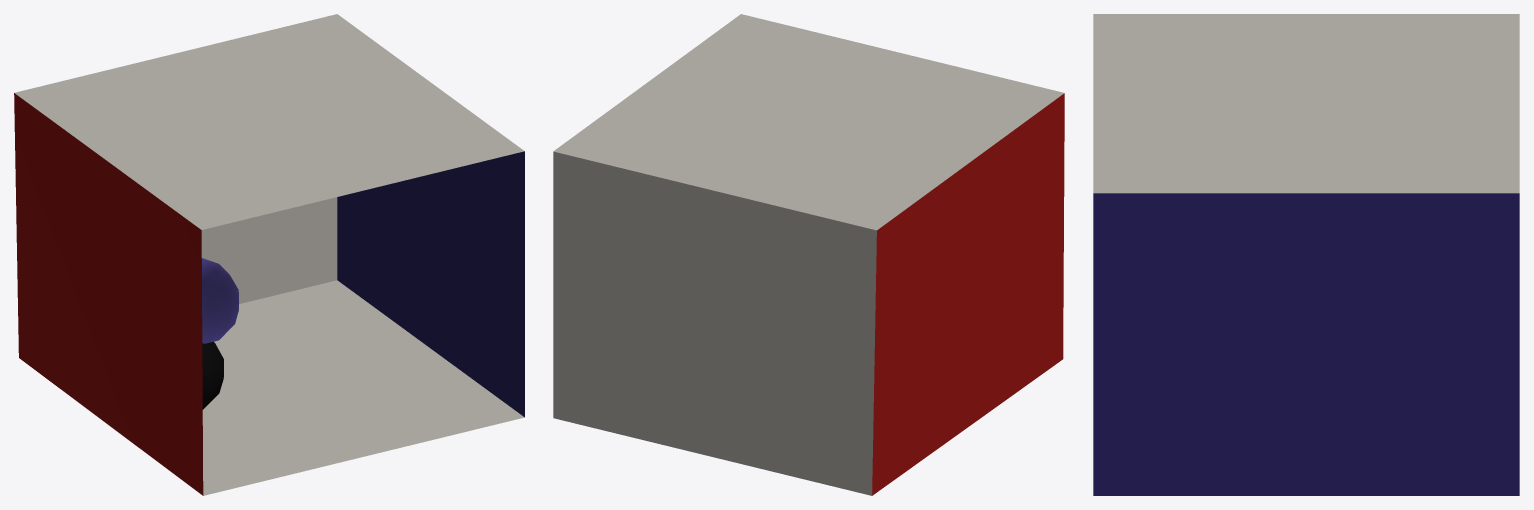
The model's file is CornellBox-Sphere-173.obj.
3 views of the same model, side by side, from view 1: azimuth 30°, elevation 25°; view 2: azimuth 150°, elevation 25°; view 3: azimuth 270°, elevation 25° (orthographic). The views are drawn at different scales.
Visible parts, largest first — view 1: ceiling, leftWall, floor, rightWall, backWall, leftSphere, rightSphere; view 2: backWall, ceiling, leftWall; view 3: rightWall, ceiling.
Boxes of the visible parts, left/top/right/bottom form: ceiling: left=14, top=14, right=524, bottom=229; leftWall: left=14, top=93, right=203, bottom=495; floor: left=202, top=280, right=524, bottom=495; rightWall: left=337, top=151, right=524, bottom=417; backWall: left=201, top=197, right=337, bottom=303; leftSphere: left=201, top=258, right=238, bottom=343; rightSphere: left=202, top=341, right=223, bottom=409; backWall: left=553, top=151, right=876, bottom=495; ceiling: left=553, top=14, right=1064, bottom=230; leftWall: left=872, top=93, right=1064, bottom=495; rightWall: left=1093, top=193, right=1519, bottom=495; ceiling: left=1093, top=14, right=1519, bottom=193.
Size of the model in its own units: 2.02 by 1.59 by 2.03.
